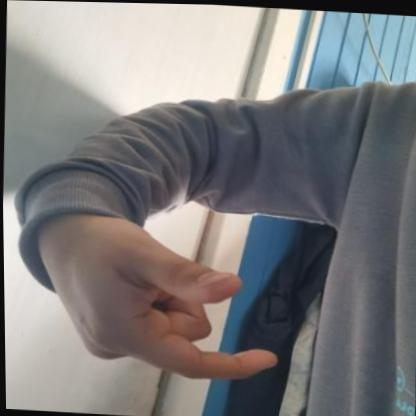G: (22, 185, 310, 416)
